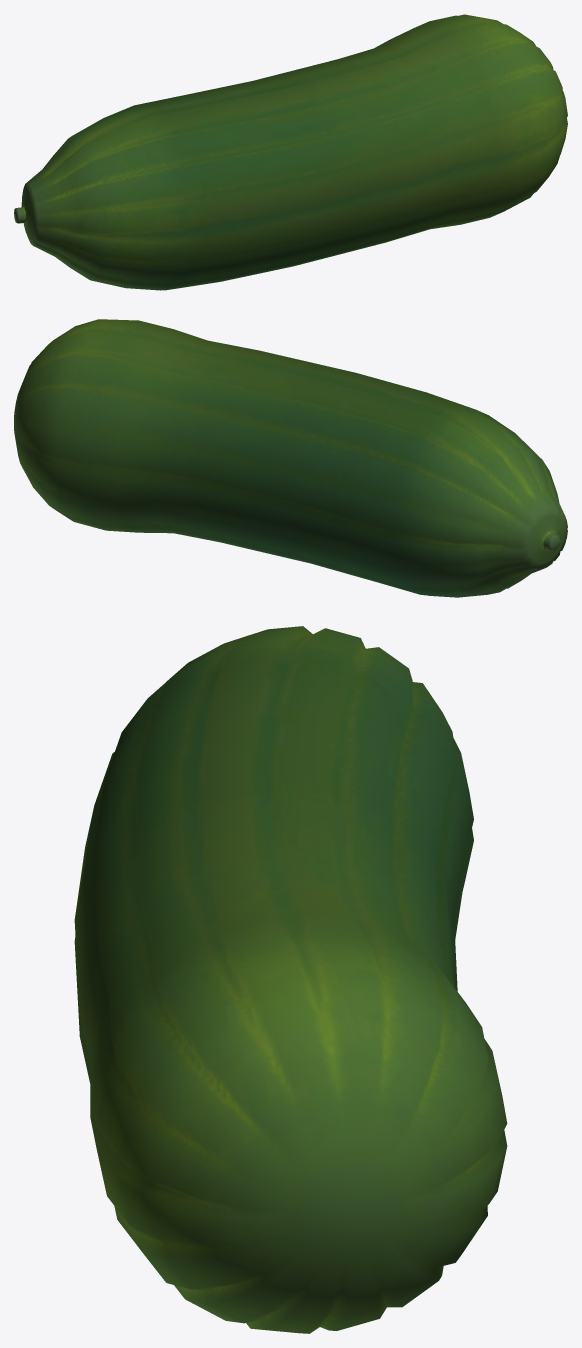
Rendered from m_ingredients_cucumber_01.fbx.
3 renders of one model, top to bottom at view 1: azimuth 30°, elevation 25°; view 2: azimuth 150°, elevation 25°; view 3: azimuth 270°, elevation 25°, orthographic. The views are drawn at different scales.
Visible parts, largest first — view 1: m_ingredients_cucumber_whole_01; view 2: m_ingredients_cucumber_whole_01; view 3: m_ingredients_cucumber_whole_01.
Boxes of the visible parts, x1,y1,x2,y2 form: m_ingredients_cucumber_whole_01: (14,14,567,290); m_ingredients_cucumber_whole_01: (14,319,567,597); m_ingredients_cucumber_whole_01: (74,626,507,1333).
Bounding box in the file's own units: 88.74 × 29.98 × 31.57.
